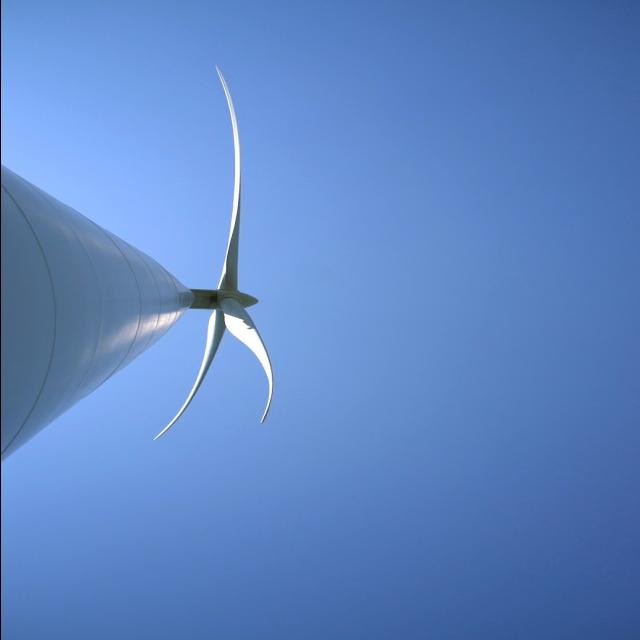blade 1: (222, 308, 296, 468)
blade 2: (142, 362, 214, 442)
blade 3: (188, 60, 270, 282)
